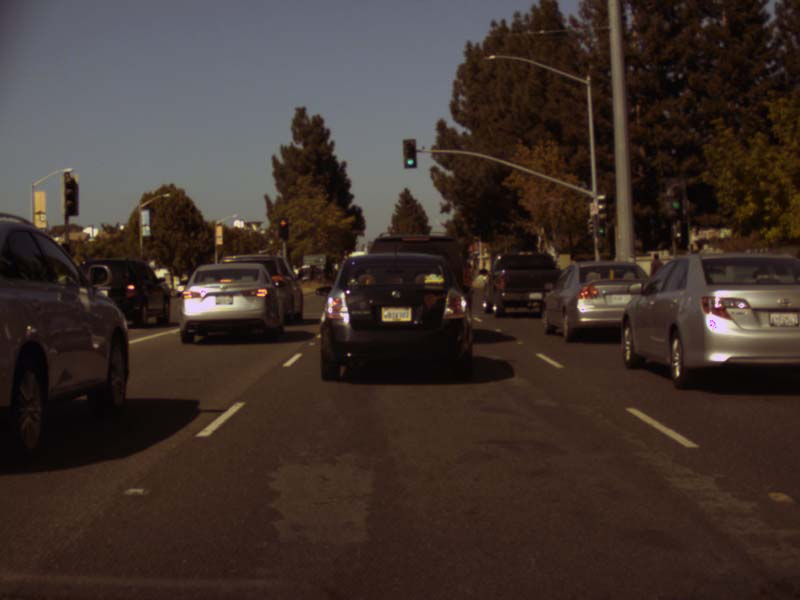Green: (403, 140, 415, 166), (671, 187, 678, 208), (596, 217, 603, 236)
Red: (278, 218, 287, 237)
